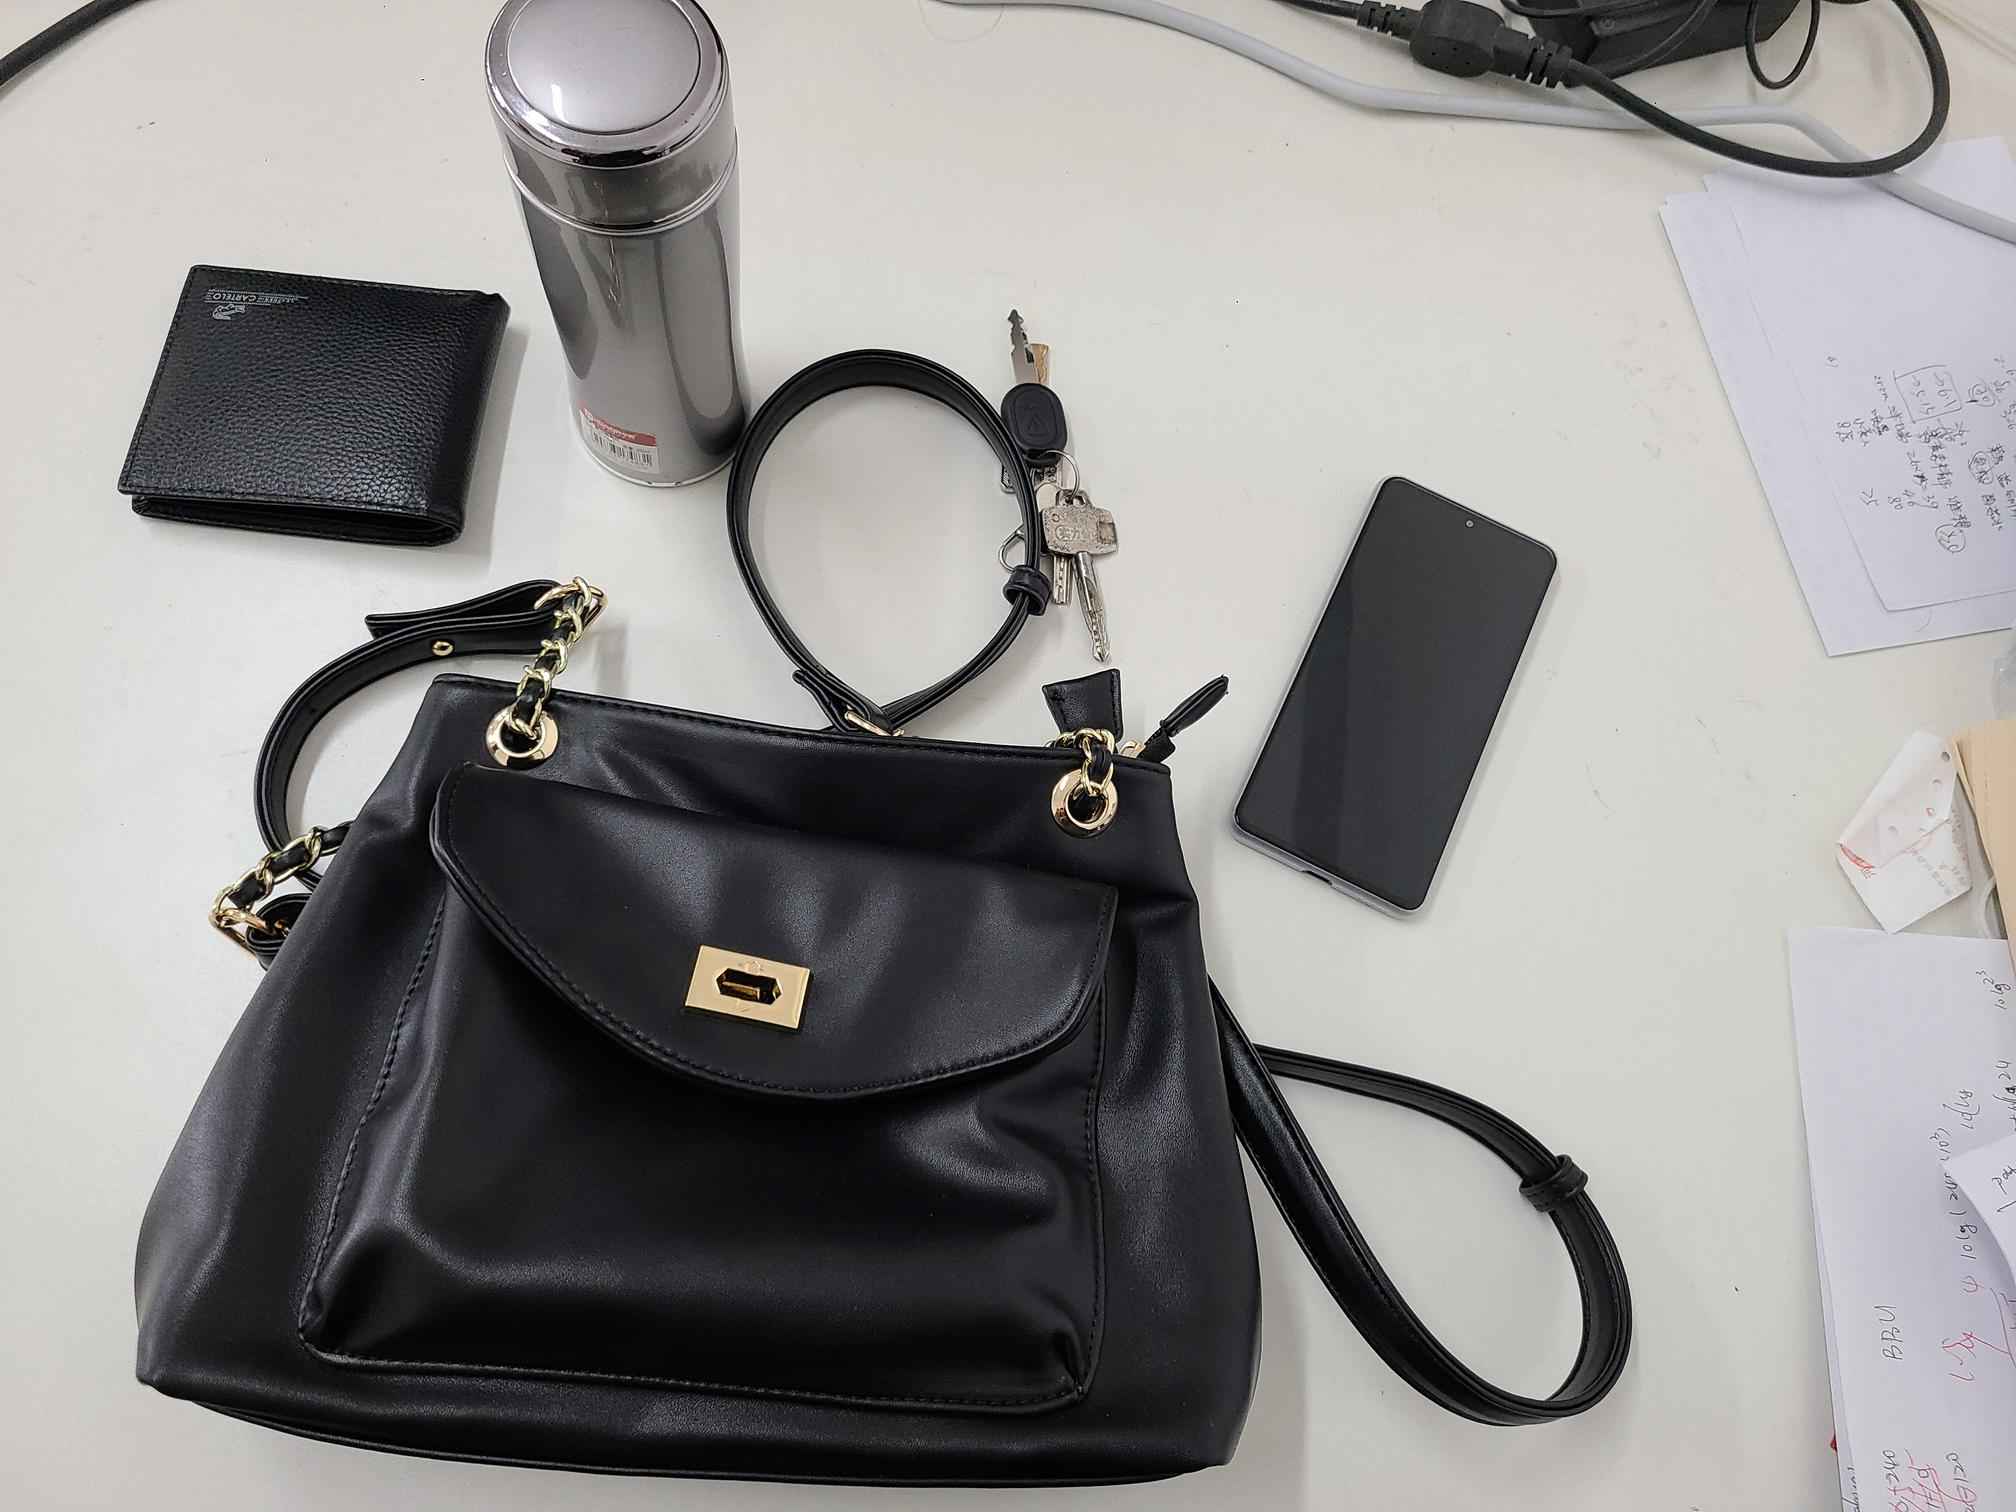bag: (95, 402, 1378, 1510)
cup: (479, 2, 749, 497)
key: (929, 314, 1167, 726)
phone: (1221, 467, 1567, 939)
wallet: (110, 254, 522, 534)
